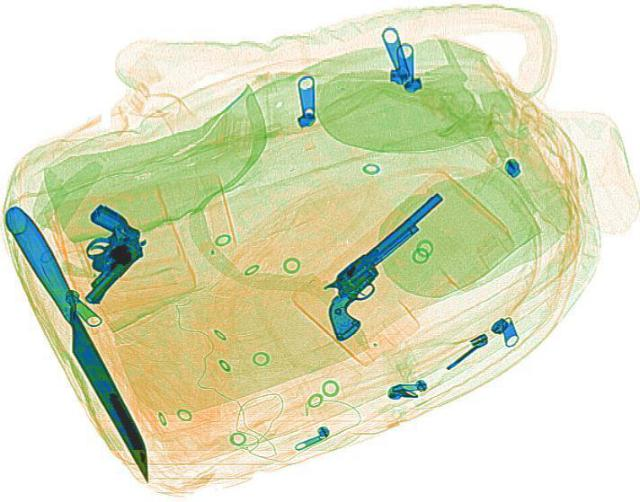Gun: (292, 189, 488, 341), (31, 200, 163, 306)
Knife: (0, 202, 162, 481)
